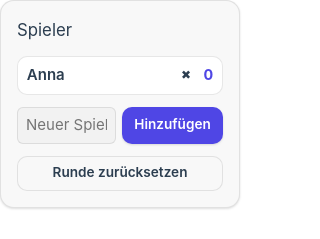
Scenario: PlayerPanel › discards the rename with Escape
Click the text "Anna". click: click(46, 75)
box: [27,65,65,84]
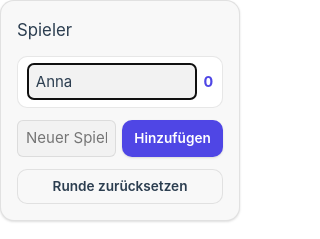
Replace the text in the 1st field with class "name-input" with "Alice". click: (112, 82)
box: [27,63,197,100]
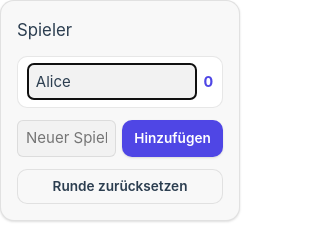
Press Esc in the 1st field with class "name-input", box [27,63,197,100]
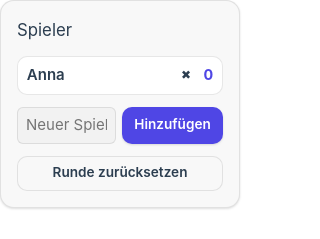
expect the text "Anna" is shown: met, box [27,65,65,84]
